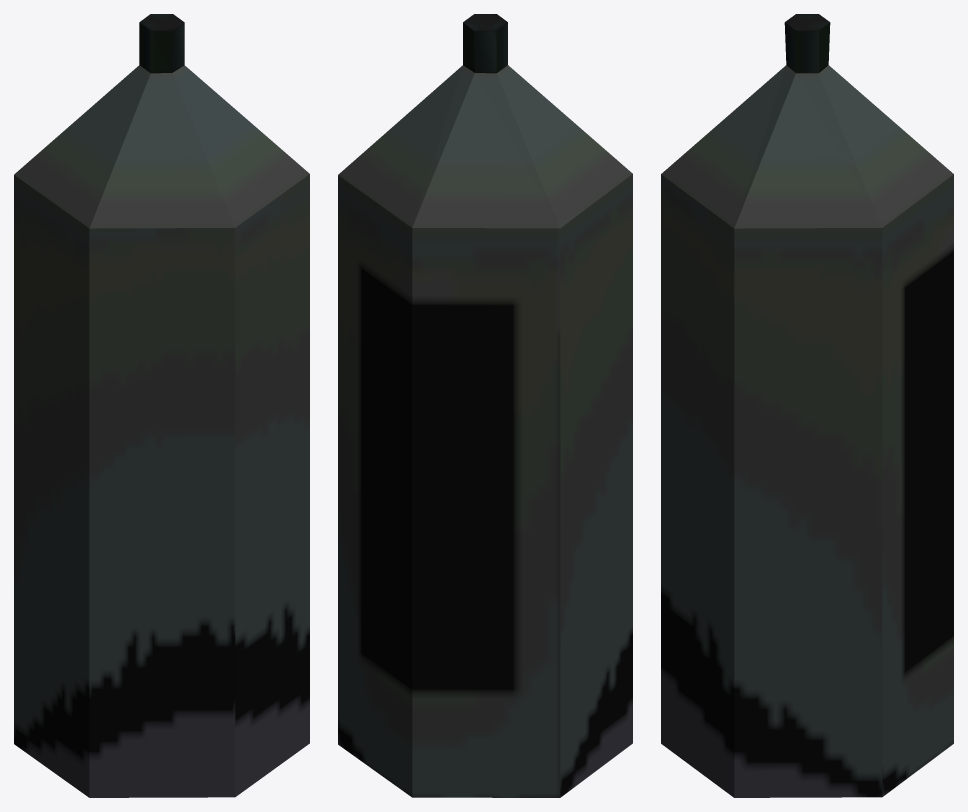
The model's file is RE2_ROOM1010_m03_sprayflasche.obj.
The picture shows the model from 3 angles, left to right: view 1: azimuth 30°, elevation 25°; view 2: azimuth 150°, elevation 25°; view 3: azimuth 270°, elevation 25°; orthographic projection.
Size of the model in its own units: 158 by 489 by 180.
Materials: 1 (1 with a texture image).
